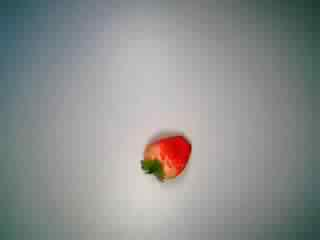strawberry: (130, 125, 196, 191)
